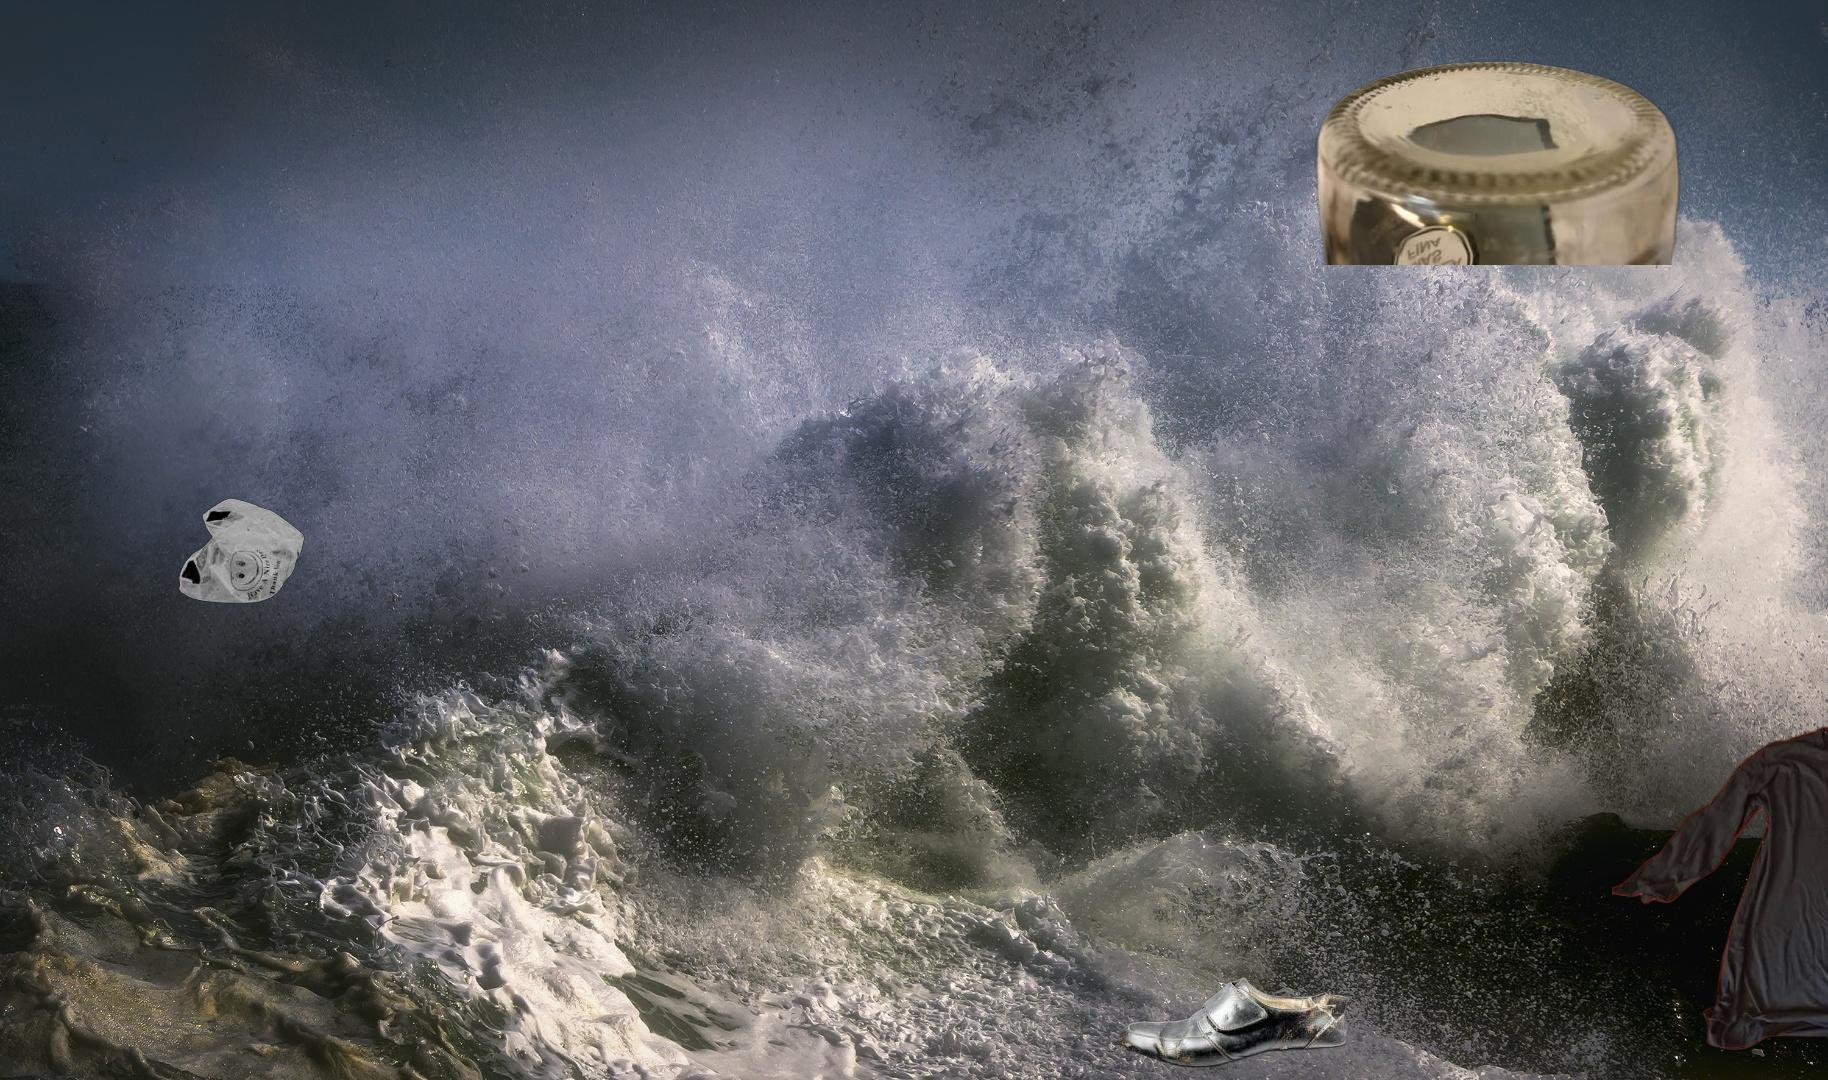clothes: (1612, 723, 1828, 1056)
glass: (1311, 58, 1683, 265)
paper: (1825, 738, 1828, 1018)
plastic-bag: (176, 496, 307, 606)
shoes: (1115, 972, 1352, 1071)
